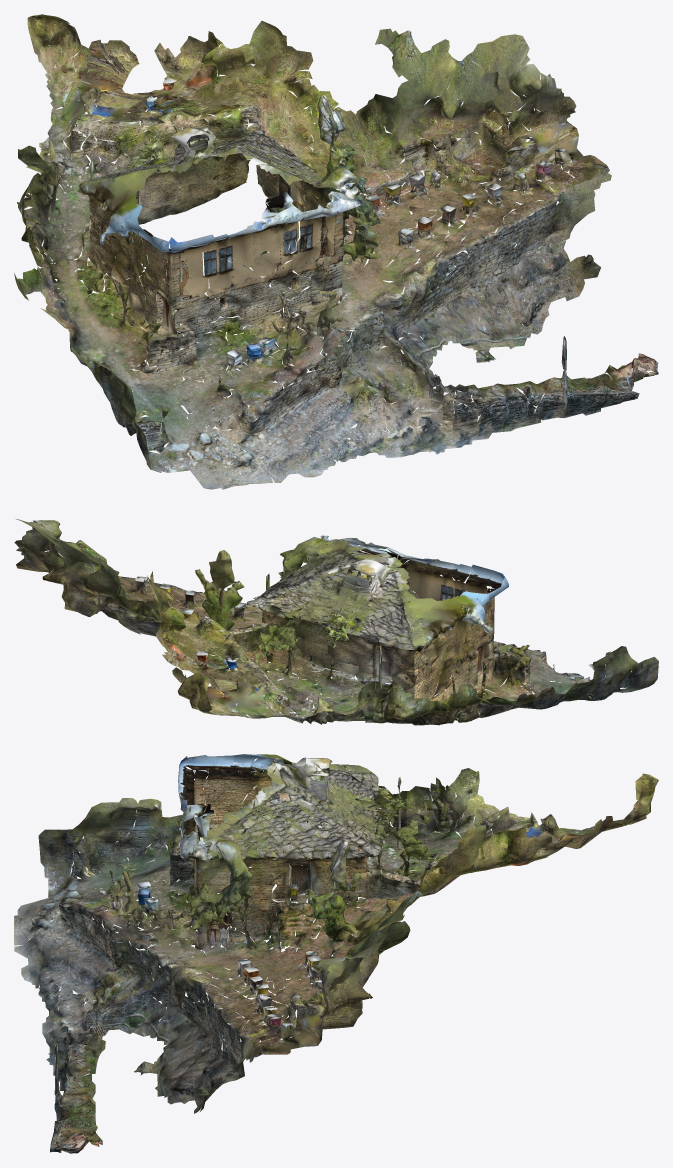
The model's file is kuca_kamena.glb.
The picture shows the model from 3 angles, top to bottom: view 1: azimuth 30°, elevation 25°; view 2: azimuth 150°, elevation 25°; view 3: azimuth 270°, elevation 25°; orthographic projection. The views are drawn at different scales.
Parts seen in each view (by area): view 1: Object_3, Object_7, Object_5, Object_11, Object_12, Object_10, Object_20, Object_14, Object_2, Object_4, Object_17, Object_16 (+6 smaller); view 2: Object_4, Object_7, Object_2, Object_19, Object_11, Object_13, Object_9, Object_14, Object_16, Object_12, Object_10, Object_17 (+5 smaller); view 3: Object_3, Object_5, Object_10, Object_11, Object_7, Object_8, Object_9, Object_2, Object_13, Object_19, Object_20, Object_4 (+6 smaller).
Boxes of the visible parts, <box> form: Object_3: <box>107,249,633,482</box>; Object_7: <box>21,34,600,291</box>; Object_5: <box>14,177,541,451</box>; Object_11: <box>21,39,597,288</box>; Object_12: <box>56,190,658,448</box>; Object_10: <box>37,154,639,489</box>; Object_20: <box>45,166,645,434</box>; Object_14: <box>55,158,653,412</box>; Object_2: <box>18,31,579,310</box>; Object_4: <box>18,21,572,232</box>; Object_17: <box>40,150,655,390</box>; Object_16: <box>25,26,578,257</box>; Object_4: <box>41,550,415,723</box>; Object_7: <box>15,518,467,720</box>; Object_2: <box>34,565,494,718</box>; Object_19: <box>42,540,457,725</box>; Object_11: <box>35,520,467,724</box>; Object_13: <box>14,540,434,724</box>; Object_9: <box>54,520,395,717</box>; Object_14: <box>143,535,593,717</box>; Object_16: <box>16,551,433,725</box>; Object_12: <box>283,539,605,721</box>; Object_10: <box>118,539,658,712</box>; Object_17: <box>143,535,583,723</box>; Object_3: <box>14,771,205,1146</box>; Object_5: <box>50,756,278,1097</box>; Object_10: <box>14,764,320,1152</box>; Object_11: <box>224,773,573,1079</box>; Object_7: <box>193,757,623,1111</box>; Object_8: <box>61,770,253,1153</box>; Object_9: <box>240,758,565,1040</box>; Object_2: <box>189,765,580,1047</box>; Object_13: <box>267,761,582,1041</box>; Object_19: <box>243,763,658,1062</box>; Object_20: <box>54,762,302,1143</box>; Object_4: <box>235,762,650,1041</box>.
Size of the model in its own units: 35.64 by 15.7 by 35.12.
Materials: 8 (8 with a texture image).
